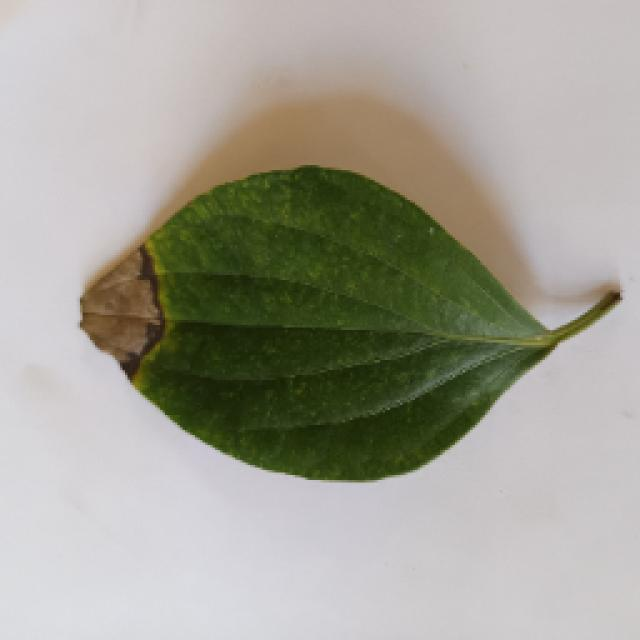footrot: (68, 140, 622, 478)
